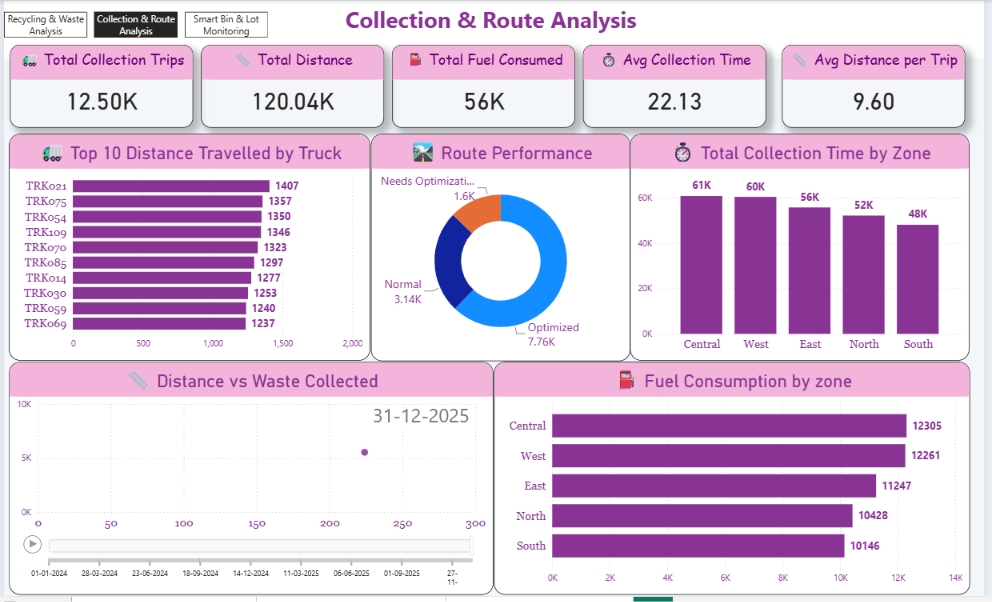

What the dashboard file says about the page in this screenshot:
{"tool":"powerbi","page":{"name":"Collection & Route Analysis","canvas":[1400,850],"ordinal":1},"visuals":[{"type":"textbox","box":[0,0,1400.1,82.6],"z":0},{"type":"card","title":"🚛 Total Collection Trips","fields":{"Values":["CountNonNull(Waste_Collection.Collection_ID)"]},"box":[8.4,63.3,261.4,118.1],"z":1000},{"type":"card","title":"📏 Total Distance","fields":{"Values":["Sum(Waste_Collection.Distance_KM)"]},"box":[282,62.7,261.4,118.1],"z":2000},{"type":"card","title":"⛽ Total Fuel Consumed","fields":{"Values":["Sum(Waste_Collection.Fuel_Consumed_L)"]},"box":[554,62.7,261.4,118.1],"z":3000},{"type":"card","title":"⏱️ Avg Collection Time","fields":{"Values":["Avg(Waste_Collection.Collection_Time_Min)"]},"box":[827.5,62.7,261.4,118.1],"z":4000},{"type":"card","title":"📏 Avg Distance per Trip","fields":{"Values":["Avg(Waste_Collection.Distance_KM)"]},"box":[1110.9,62.7,261.4,118.1],"z":5000},{"type":"barChart","title":"🚛 Top 10  Distance Travelled by Truck","fields":{"Category":["Waste_Collection.Truck_ID"],"Y":["Sum(Waste_Collection.Distance_KM)"]},"box":[7.5,190.6,516.3,324.2],"z":6000},{"type":"clusteredBarChart","title":"⛽ Fuel Consumption by zone","fields":{"Category":["Waste_Collection.Zone"],"Y":["Waste_Collection.fuel_consumption_LTR"]},"box":[699.4,516.3,679.9,333.2],"z":7000},{"type":"scatterChart","title":"📏 Distance vs Waste Collected","fields":{"Play":["Waste_Collection.Date"],"X":["Sum(Waste_Collection.Distance_KM)"],"Y":["Sum(Waste_Collection.Waste_Collected_KG)"]},"box":[7.5,516.3,691.9,333.2],"z":8000},{"type":"donutChart","title":"🛣️ Route Performance","fields":{"Category":["Waste_Collection.Route_Status"],"Y":["CountNonNull(Waste_Collection.Collection_ID)"]},"box":[523.8,190.6,370.3,324.7],"z":9000},{"type":"columnChart","title":"⏱️ Total Collection Time by Zone","fields":{"Category":["Waste_Collection.Zone"],"Y":["Sum(Waste_Collection.Collection_Time_Min)"]},"box":[894.5,190.6,484.8,324.2],"z":10000},{"type":"pageNavigator","box":[0,15.7,378.9,37],"z":10001}]}

Visuals, with their boxes in screenshot pixels (x1, y1, x2, y2), scaled from the page's 1400x850 canvas onto the 992x602 screenshot:
textbox: (x1=0, y1=0, x2=991, y2=59)
"🚛 Total Collection Trips" card: (x1=6, y1=45, x2=191, y2=128)
"📏 Total Distance" card: (x1=200, y1=44, x2=385, y2=128)
"⛽ Total Fuel Consumed" card: (x1=393, y1=44, x2=578, y2=128)
"⏱️ Avg Collection Time" card: (x1=586, y1=44, x2=772, y2=128)
"📏 Avg Distance per Trip" card: (x1=787, y1=44, x2=972, y2=128)
"🚛 Top 10  Distance Travelled by Truck" barChart: (x1=5, y1=135, x2=371, y2=365)
"⛽ Fuel Consumption by zone" clusteredBarChart: (x1=496, y1=366, x2=977, y2=601)
"📏 Distance vs Waste Collected" scatterChart: (x1=5, y1=366, x2=496, y2=601)
"🛣️ Route Performance" donutChart: (x1=371, y1=135, x2=634, y2=365)
"⏱️ Total Collection Time by Zone" columnChart: (x1=634, y1=135, x2=977, y2=365)
pageNavigator: (x1=0, y1=11, x2=268, y2=37)
